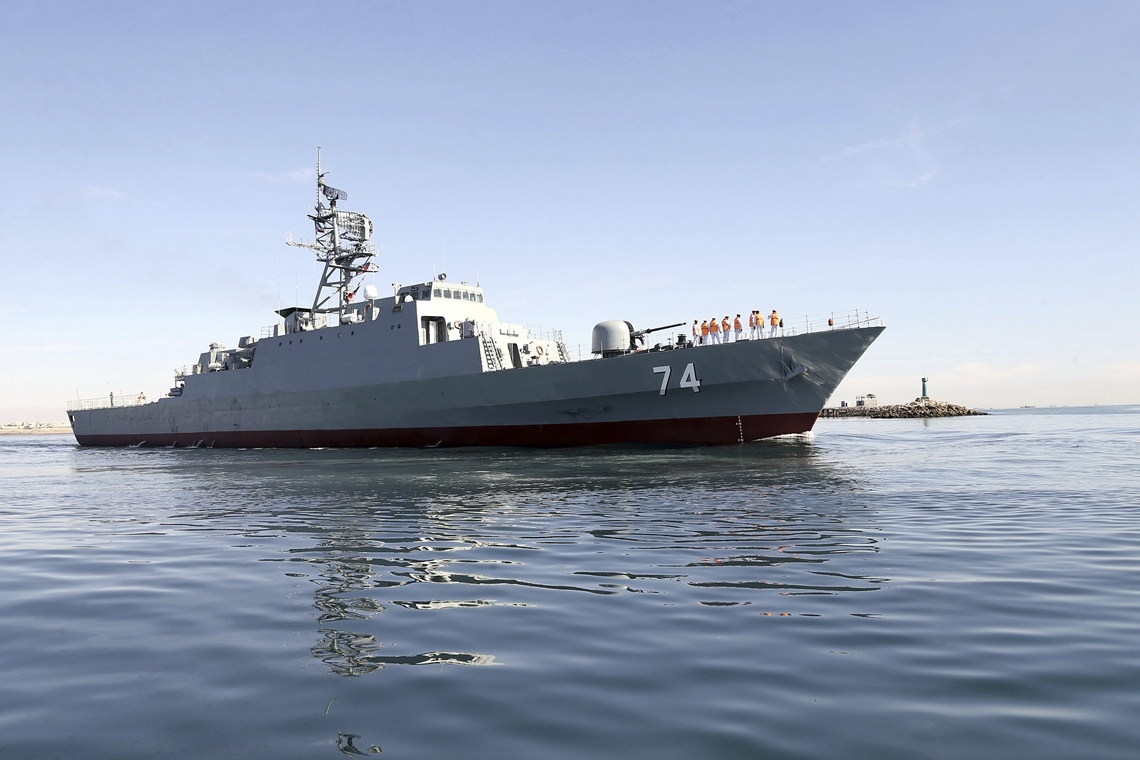warship: (57, 153, 898, 454)
